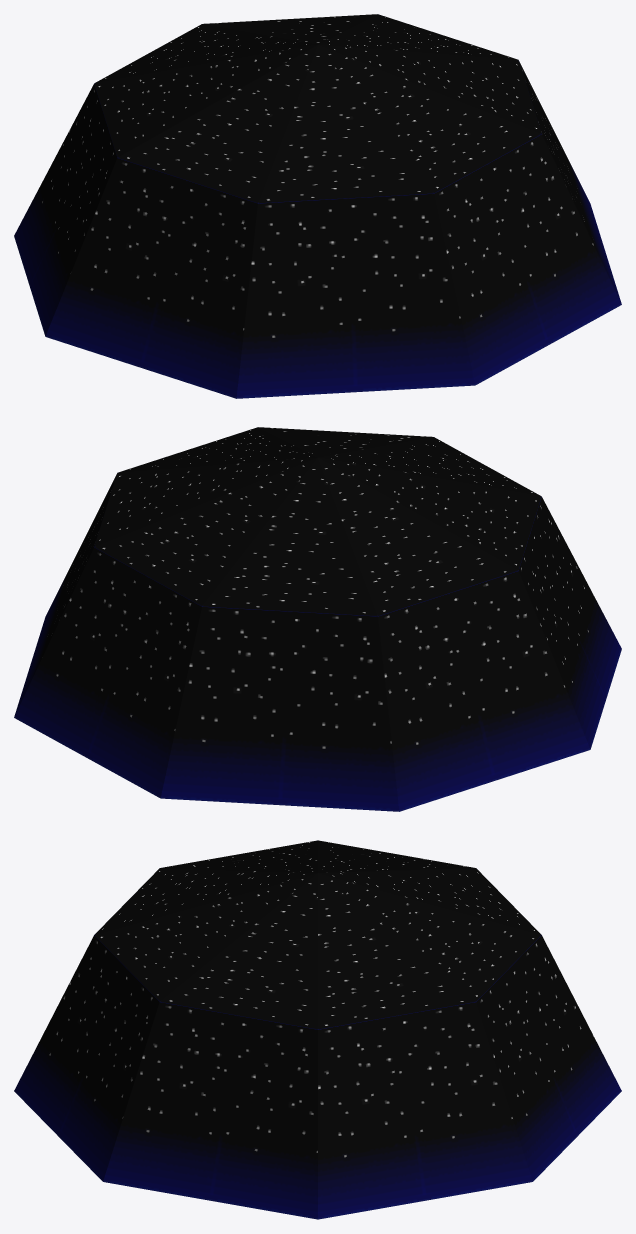
File: donkey_course-donkey_course_V.glb
3 views of the same model, one above another, from view 1: azimuth 30°, elevation 25°; view 2: azimuth 150°, elevation 25°; view 3: azimuth 270°, elevation 25° (orthographic). The views are drawn at different scales.
Parts seen in each view (by area): view 1: donkey_course_V; view 2: donkey_course_V; view 3: donkey_course_V.
Part boxes in pixels (left/top/right/bottom): donkey_course_V: left=14, top=14, right=621, bottom=398; donkey_course_V: left=14, top=427, right=621, bottom=811; donkey_course_V: left=14, top=840, right=621, bottom=1219.
Bounding box in the file's own units: 1140 × 451 × 1140.
Materials: 1 (1 with a texture image).
